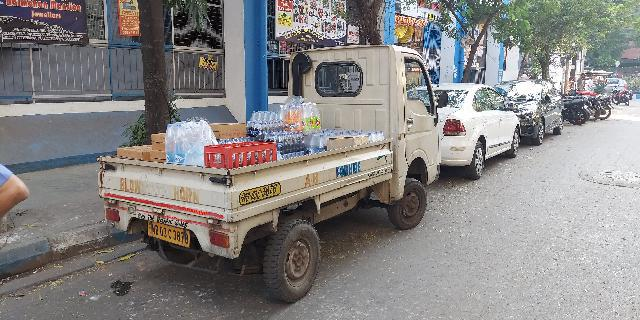Car: (417, 83, 523, 180), (503, 81, 569, 151)
Minitruck: (96, 36, 446, 293)
